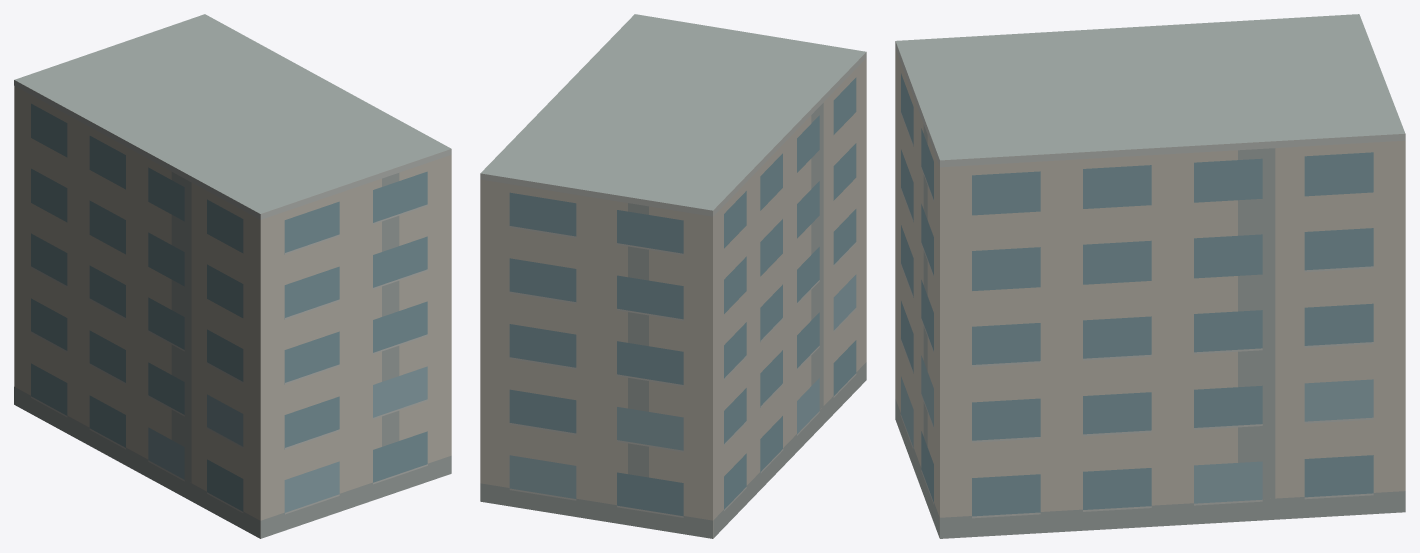
Rendered from survey-upis-33026074.glb.
3 renders of one model, left to right at view 1: azimuth 30°, elevation 25°; view 2: azimuth 150°, elevation 25°; view 3: azimuth 270°, elevation 25°, orthographic. The views are drawn at different scales.
Parts seen in each view (by area): view 1: survey-upis-33026074.tmp; view 2: survey-upis-33026074.tmp; view 3: survey-upis-33026074.tmp.
Part boxes in pixels (left/top/right/bottom): survey-upis-33026074.tmp: left=14, top=14, right=451, bottom=538; survey-upis-33026074.tmp: left=480, top=14, right=866, bottom=538; survey-upis-33026074.tmp: left=895, top=14, right=1405, bottom=538.
Bounding box in the file's own units: 11.04 × 13.3 × 16.26.
